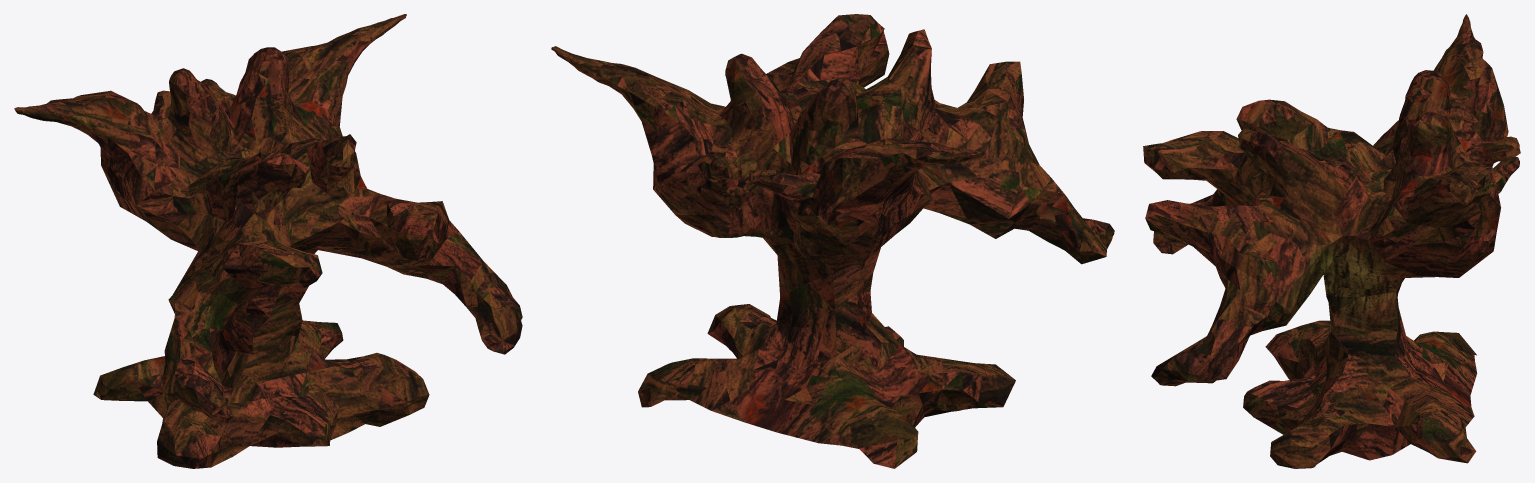
File: tree_1.fbx
3 renders of one model, left to right at view 1: azimuth 30°, elevation 25°; view 2: azimuth 150°, elevation 25°; view 3: azimuth 270°, elevation 25°, orthographic. The views are drawn at different scales.
Visible parts, largest first — view 1: Cube; view 2: Cube; view 3: Cube.
Boxes of the visible parts, x1,y1,x2,y2 form: Cube: [14, 14, 522, 468]; Cube: [551, 14, 1114, 468]; Cube: [1143, 14, 1520, 468].
Size of the model in its own units: 1321 by 1088 by 1121.
